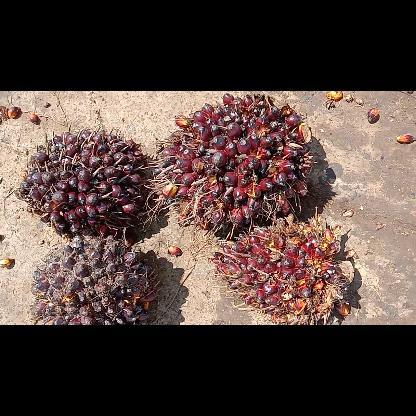Kurang masak: (144, 92, 316, 240), (214, 214, 354, 324), (15, 126, 145, 238), (30, 234, 158, 324)
